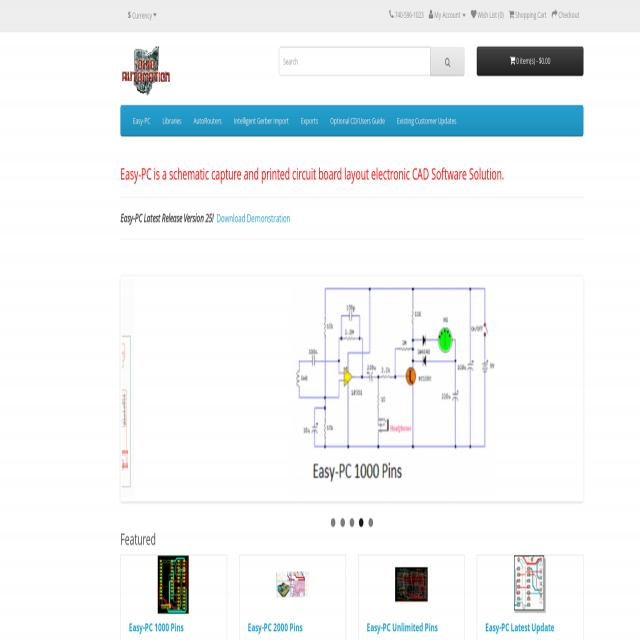button: (476, 555, 584, 640), (120, 554, 226, 640), (240, 554, 346, 640), (358, 555, 464, 640), (476, 46, 584, 76), (120, 47, 172, 98), (391, 106, 463, 135), (324, 106, 391, 135), (228, 106, 294, 135), (188, 106, 228, 135), (430, 46, 465, 76), (122, 3, 162, 28), (156, 106, 188, 135), (127, 106, 157, 135), (295, 106, 324, 135), (357, 516, 365, 528), (348, 517, 356, 528), (329, 517, 336, 529), (367, 516, 374, 528), (339, 517, 346, 528)
field: (279, 47, 431, 76)
